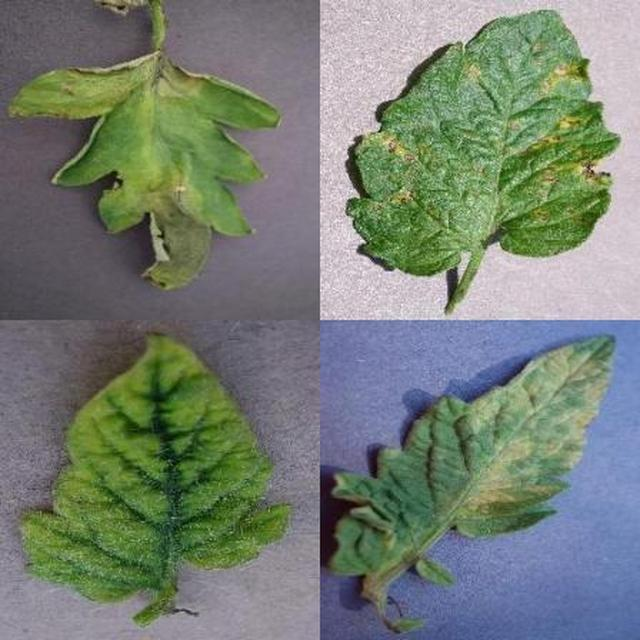Late Blight Leaf: (206, 203, 640, 640)
